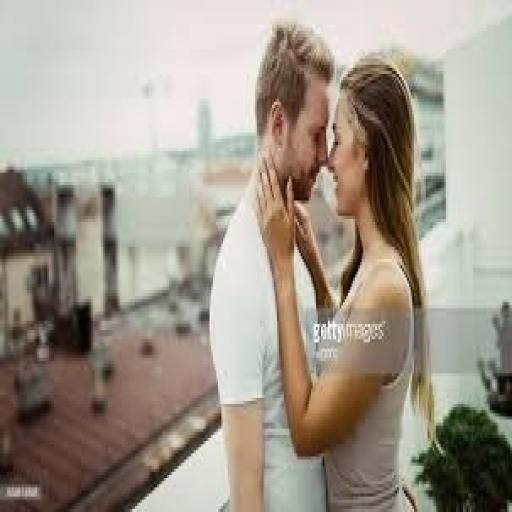hugging: (208, 18, 434, 509)
